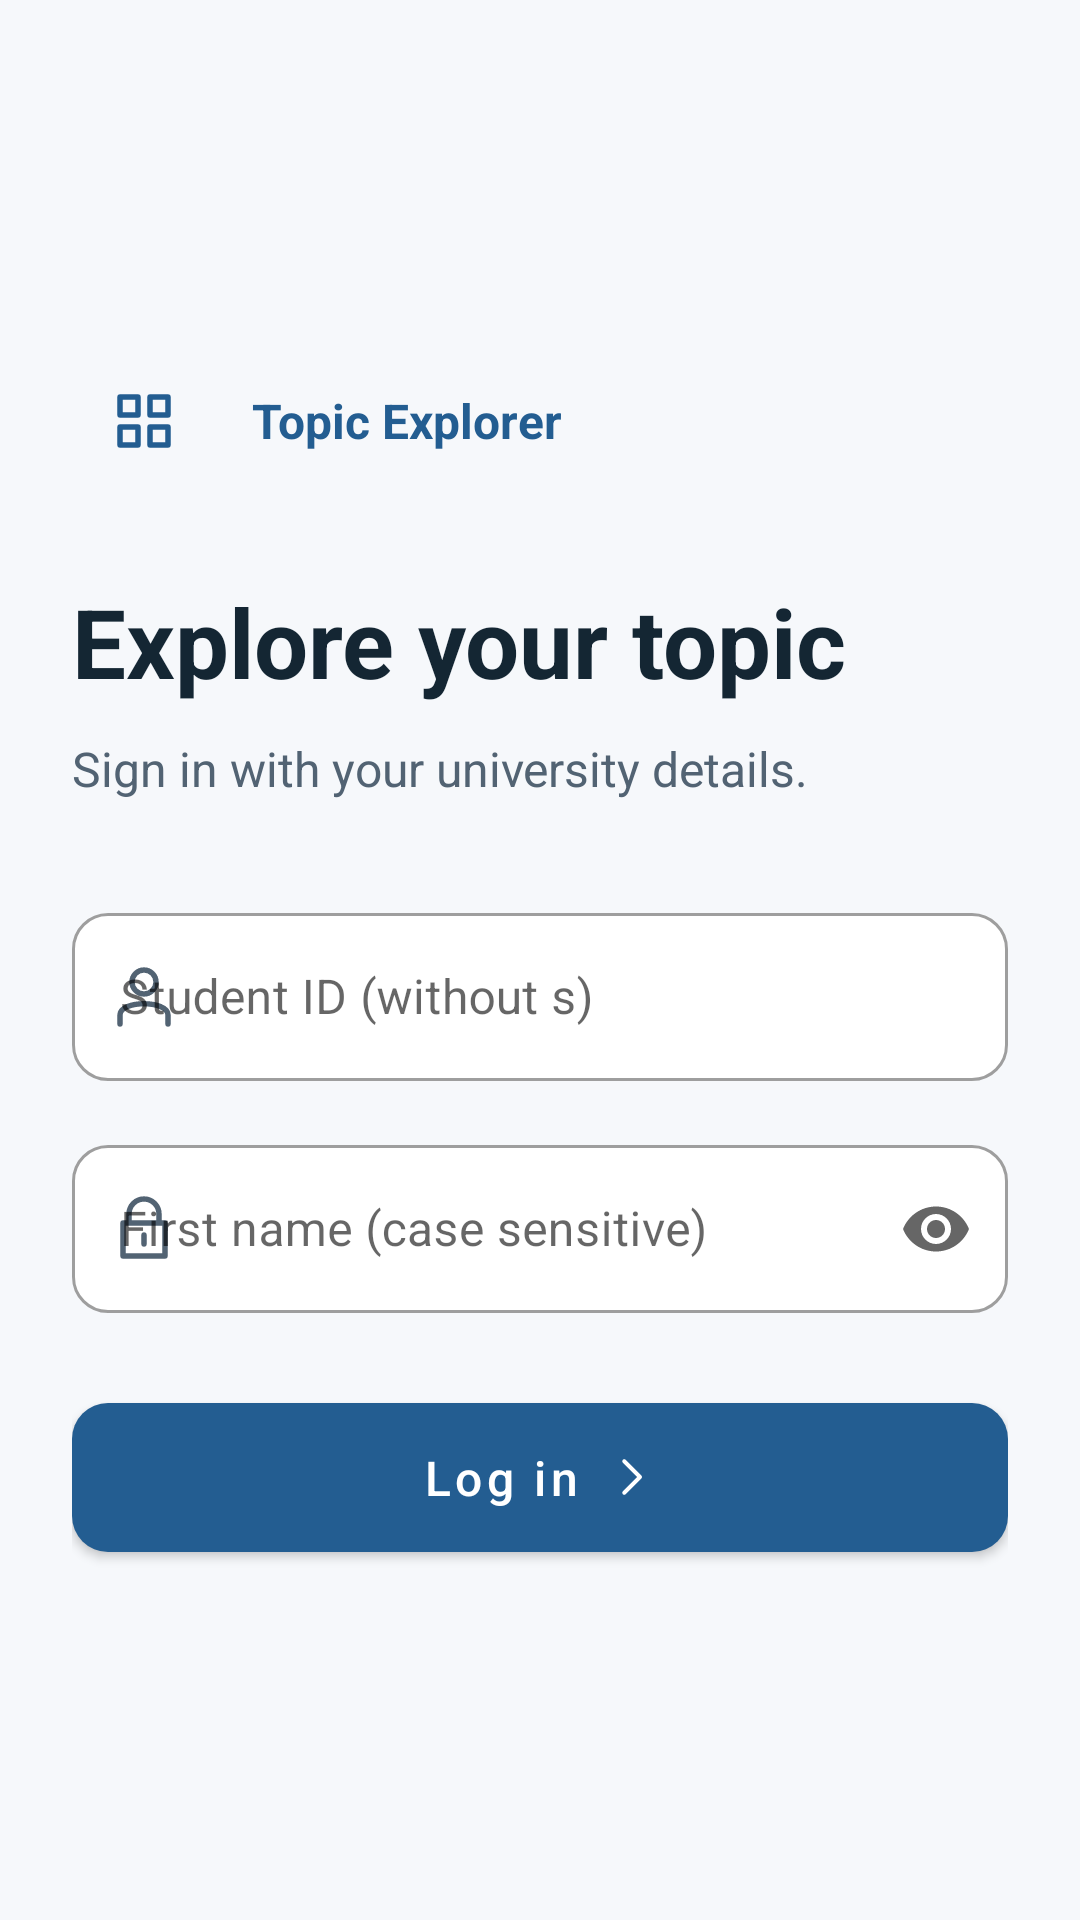

Icon bounding boxes for this 1080w x 1920h phone screenshot, format [x1, y1, x2, y2]:
catalogue: [117, 394, 171, 448]
